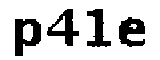1: (83, 6, 114, 49)
4: (44, 6, 81, 50)
e: (117, 14, 148, 51)
p: (13, 15, 42, 59)
